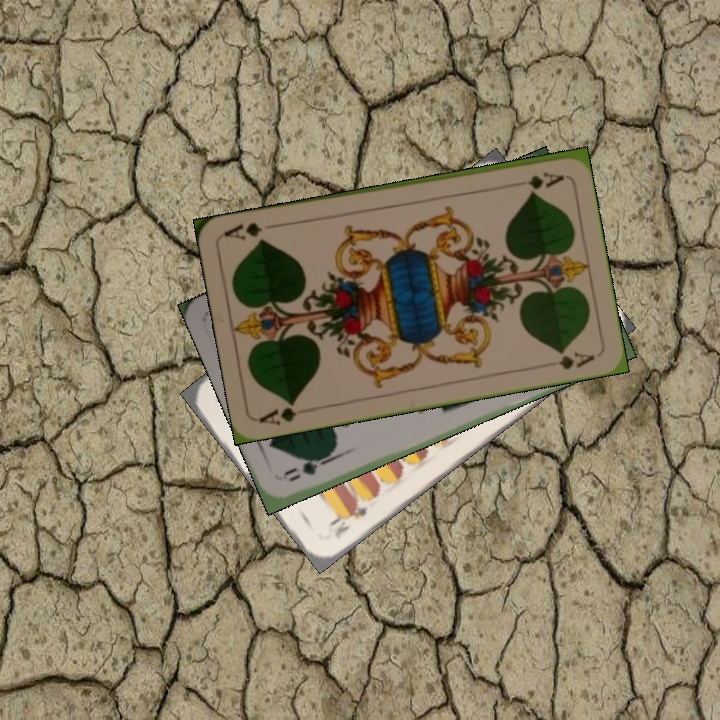E10: (326, 500, 371, 542)
GA: (255, 397, 300, 428), (507, 168, 566, 191)
GO: (285, 449, 336, 485)
